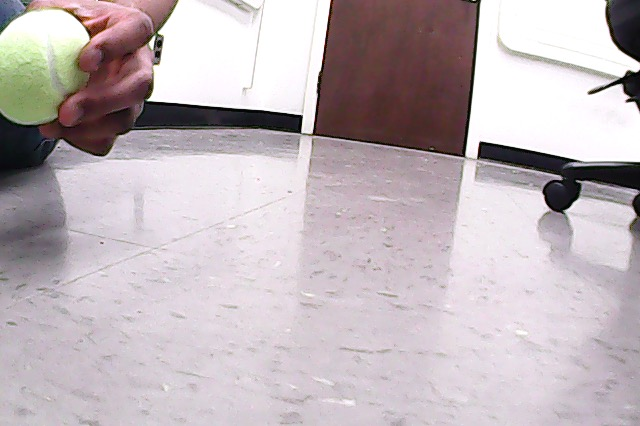ball: (1, 10, 92, 126)
